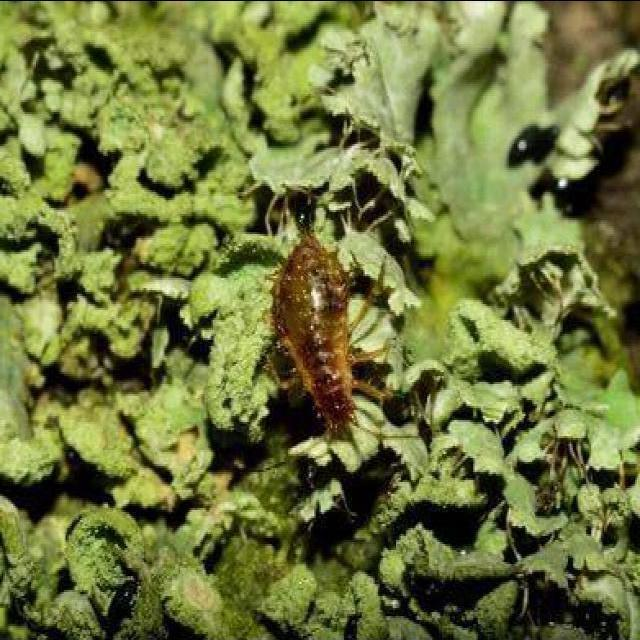aphid: (268, 230, 368, 443)
